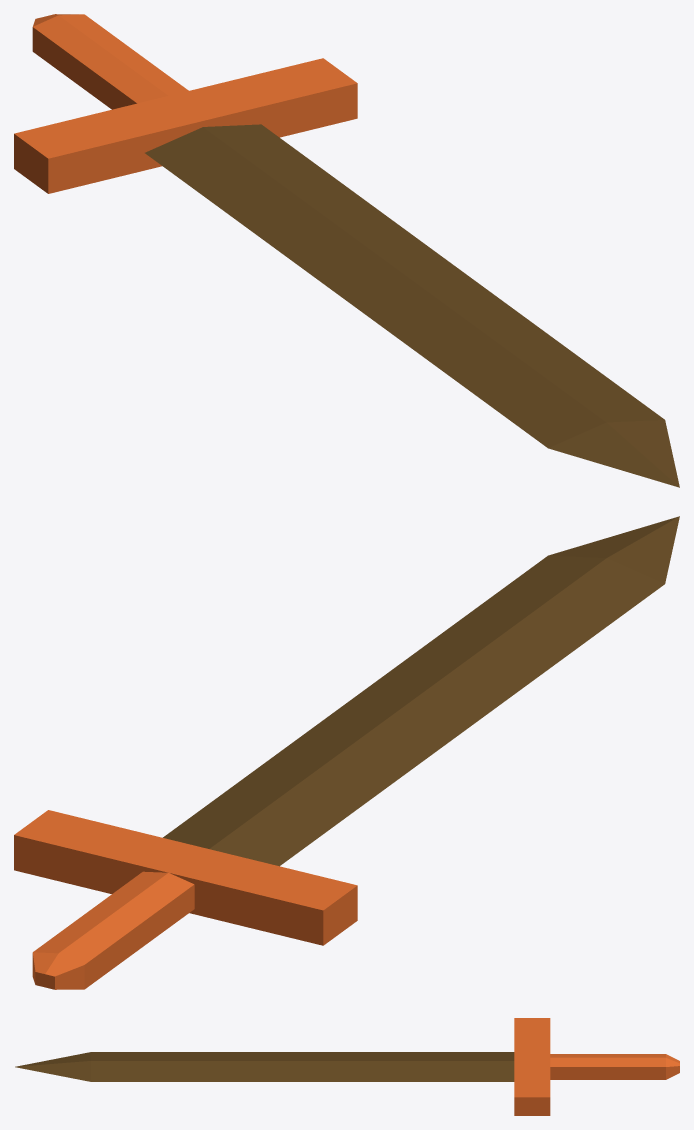
File: bronze_sword.glb
3 renders of one model, top to bottom at view 1: azimuth 30°, elevation 25°; view 2: azimuth 150°, elevation 25°; view 3: azimuth 270°, elevation 25°, orthographic. The views are drawn at different scales.
Visible parts, largest first — view 1: Cube; view 2: Cube; view 3: Cube.
Part boxes in pixels (<box>): Cube: <box>14,14,679,487</box>; Cube: <box>14,516,679,989</box>; Cube: <box>15,1018,679,1115</box>.
Size of the model in its own units: 4.87 by 0.5315 by 17.3.
